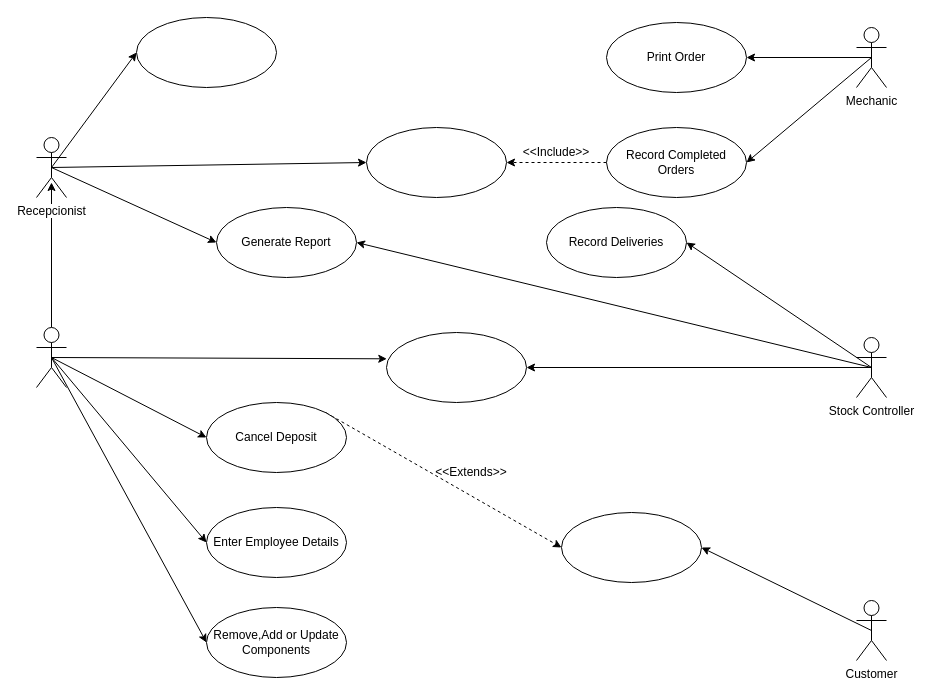
Some shapes in this 931 by 699 pixel diagram are drawn without their labels. Each missing label, with the box of its shape:
Contact Customers: (366, 126, 506, 198)
Enter Customer Choices: (136, 16, 276, 88)
Manager: (36, 326, 66, 388)
Order Components: (386, 332, 526, 402)
Pay Deposit: (560, 512, 702, 582)
